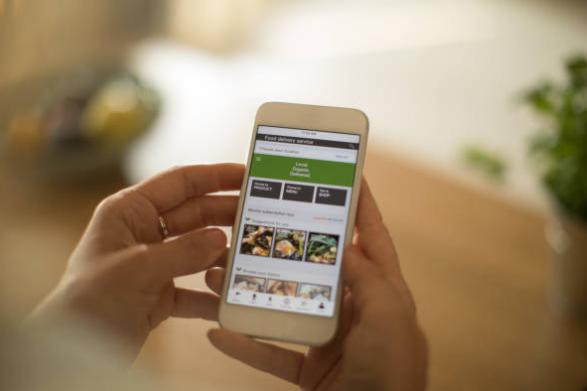mobile: (219, 101, 370, 347)
